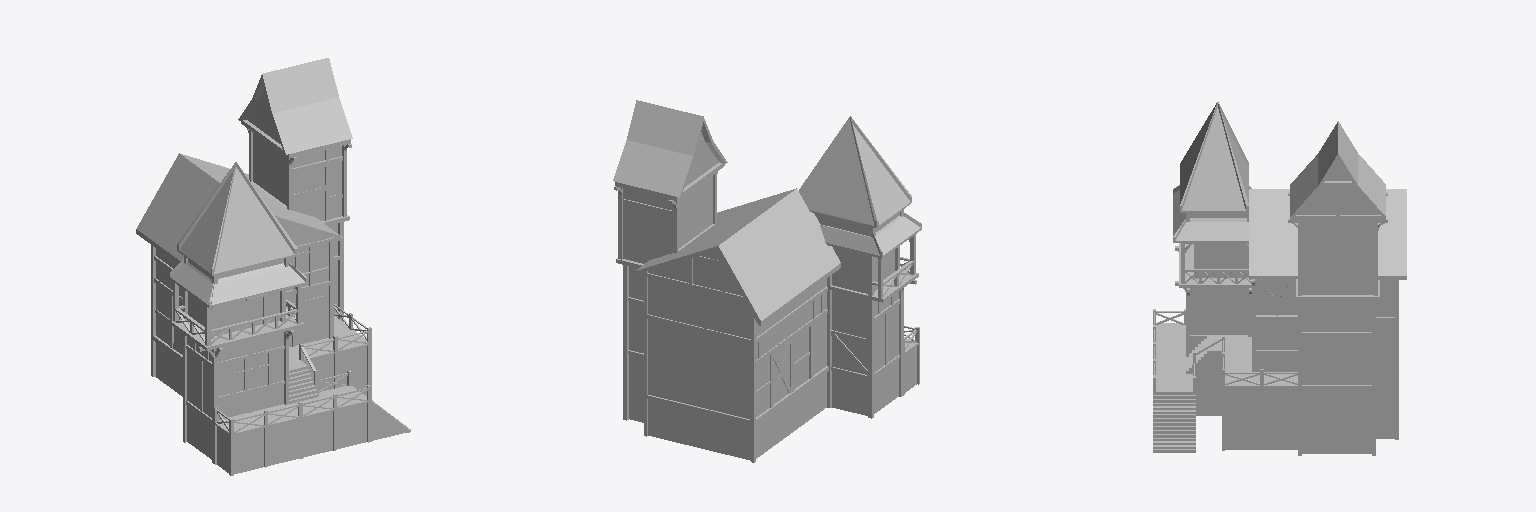
Rendered from uploads_files_638185_House_1.obj.
3 renders of one model, left to right at view 1: azimuth 30°, elevation 25°; view 2: azimuth 150°, elevation 25°; view 3: azimuth 270°, elevation 25°, orthographic.
Visible parts, largest first — view 1: Model; view 2: Model; view 3: Model.
Part boxes in pixels (bbox=[...]): Model: bbox=[136, 58, 410, 475]; Model: bbox=[613, 100, 921, 462]; Model: bbox=[1153, 102, 1406, 455].
Bounding box in the file's own units: 15.61 × 22.21 × 16.72.